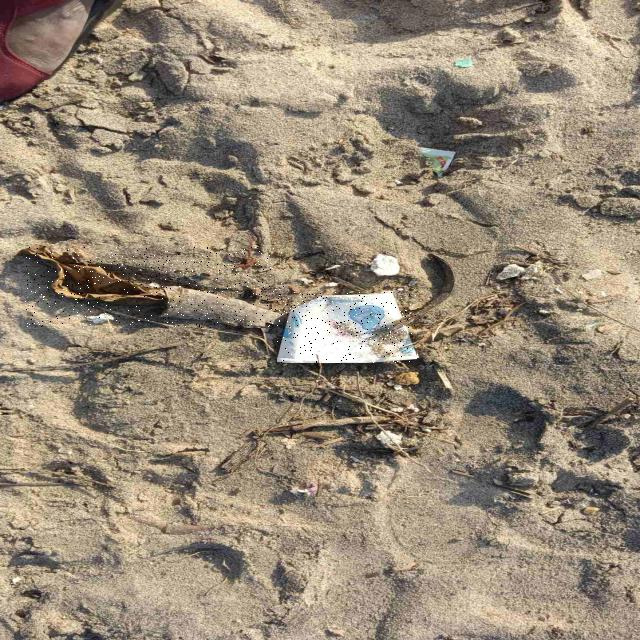biowaste: (26, 247, 284, 327)
paper: (277, 292, 417, 363)
